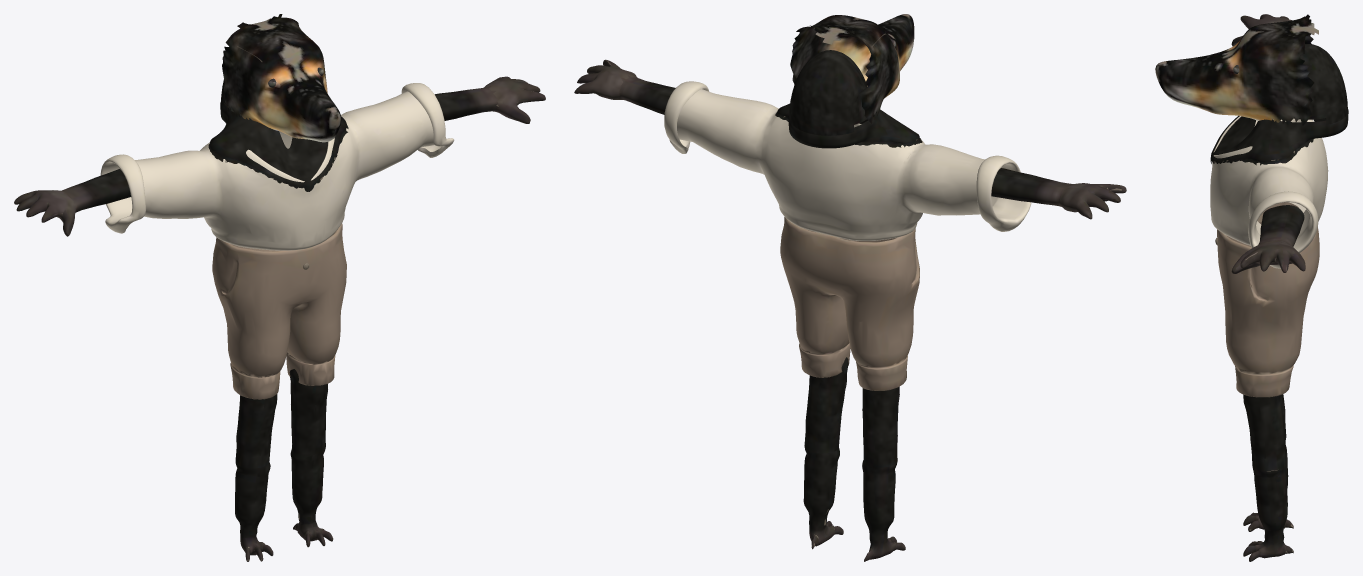
File: dog_character.glb
The picture shows the model from 3 angles, left to right: view 1: azimuth 30°, elevation 25°; view 2: azimuth 150°, elevation 25°; view 3: azimuth 270°, elevation 25°; orthographic projection. The views are drawn at different scales.
Parts seen in each view (by area): view 1: owl_jumper, owl_trousers, owl_head, owl_feet, owl_hands, owl_ruff; view 2: owl_jumper, owl_trousers, owl_head, owl_feet, owl_hands, owl_ruff; view 3: owl_head, owl_trousers, owl_jumper, owl_feet, owl_ruff, owl_hands.
Boxes of the visible parts, left/top/right/bottom form: owl_jumper: left=100, top=83, right=454, bottom=250; owl_trousers: left=212, top=223, right=346, bottom=399; owl_head: left=221, top=14, right=341, bottom=142; owl_feet: left=235, top=369, right=333, bottom=561; owl_hands: left=14, top=76, right=545, bottom=236; owl_ruff: left=208, top=100, right=348, bottom=191; owl_jumper: left=664, top=81, right=1031, bottom=240; owl_trousers: left=780, top=217, right=919, bottom=390; owl_head: left=789, top=14, right=914, bottom=135; owl_feet: left=803, top=357, right=905, bottom=561; owl_hands: left=574, top=59, right=1126, bottom=219; owl_ruff: left=775, top=103, right=922, bottom=148; owl_head: left=1155, top=14, right=1347, bottom=125; owl_trousers: left=1217, top=202, right=1319, bottom=397; owl_jumper: left=1210, top=116, right=1328, bottom=268; owl_feet: left=1243, top=394, right=1293, bottom=561; owl_ruff: left=1210, top=109, right=1348, bottom=165; owl_hands: left=1231, top=14, right=1305, bottom=273.
Size of the model in its own units: 1.21 by 1.15 by 0.3895.
Materials: 1 (1 with a texture image).
